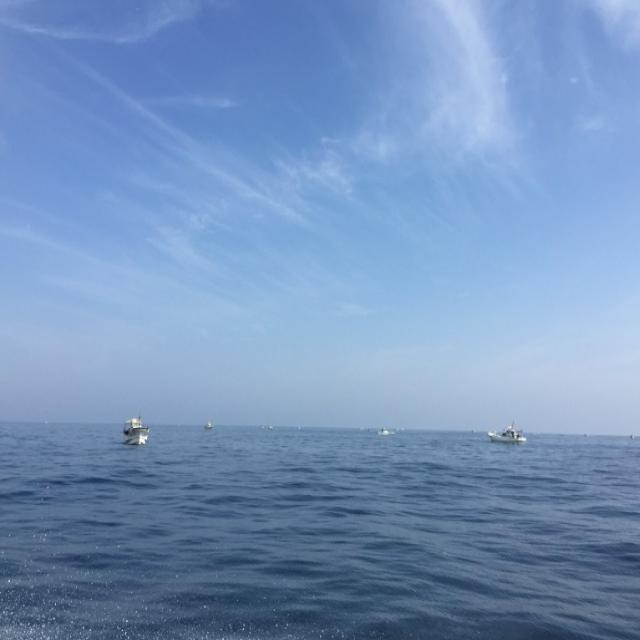houseboat: (121, 410, 152, 450), (487, 422, 529, 446)
